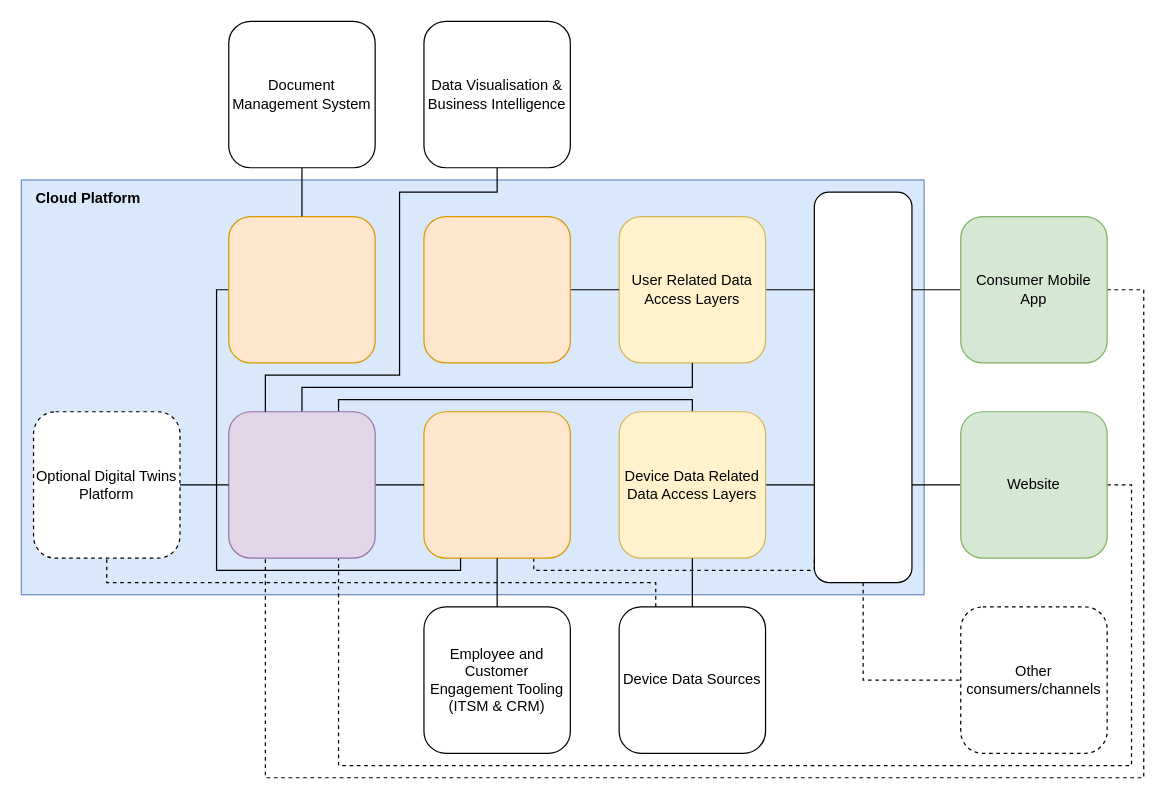
Some shapes in this 1166 by 800 pixel diagram are drawn without their labels. The shapes that lost their labels are listed below. From the top down, each one's box as (x1, y1, x2, y2) in pixels, then its label:
(228, 215, 375, 363): Document Management integration
(423, 215, 570, 363): Communication System
(813, 191, 912, 583): Wetility Omnichannel API
(228, 411, 375, 558): Data Science/Analytics Workspace
(423, 411, 570, 558): ITSM and CRM integration
